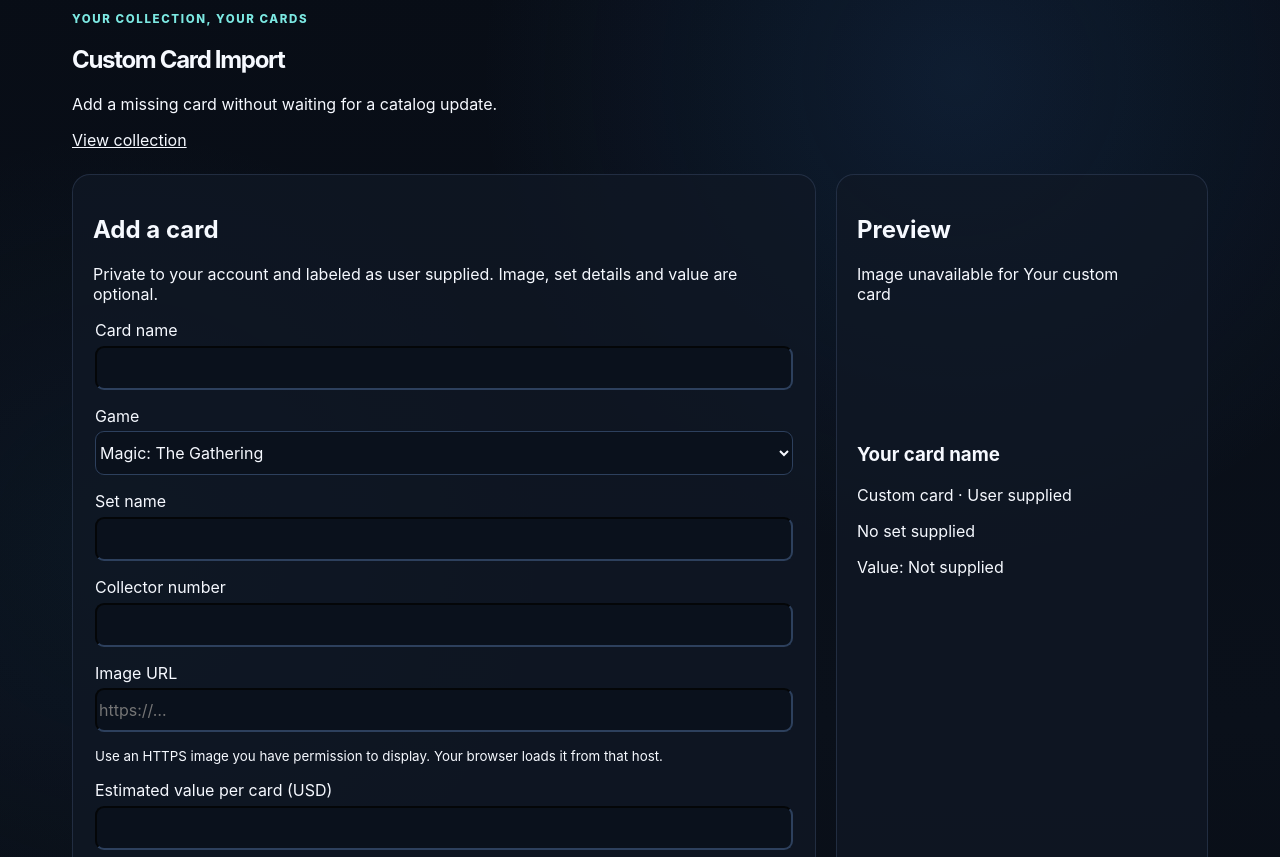
Test: keeps entered fields when saving fails
This screenshot has width=1280, height=857.
Type "Keep me" into the field labelled "Card name". click: [444, 368]
box: [95, 346, 793, 390]
(page scrolled)
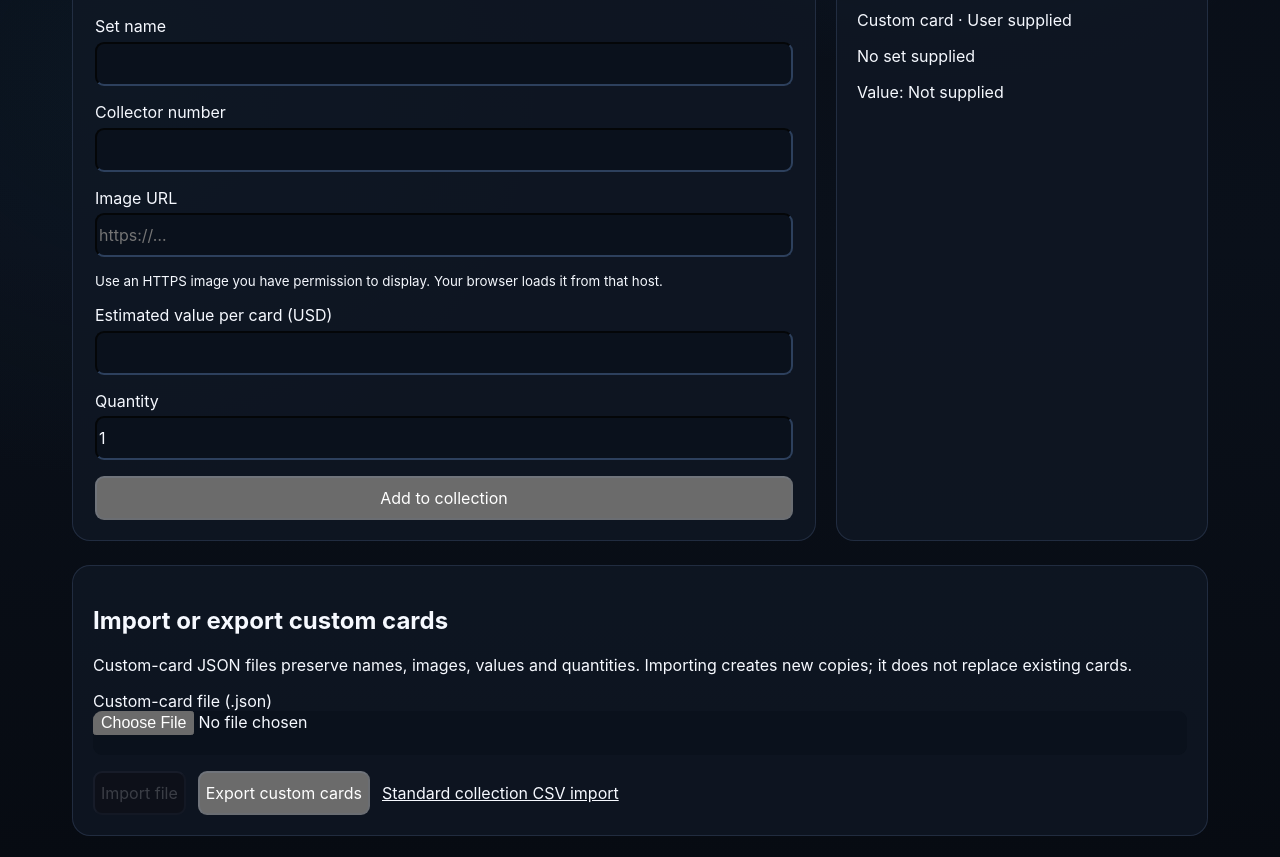
Click the button "Add to collection". click: [444, 498]
box: [95, 476, 793, 520]
(page scrolled)
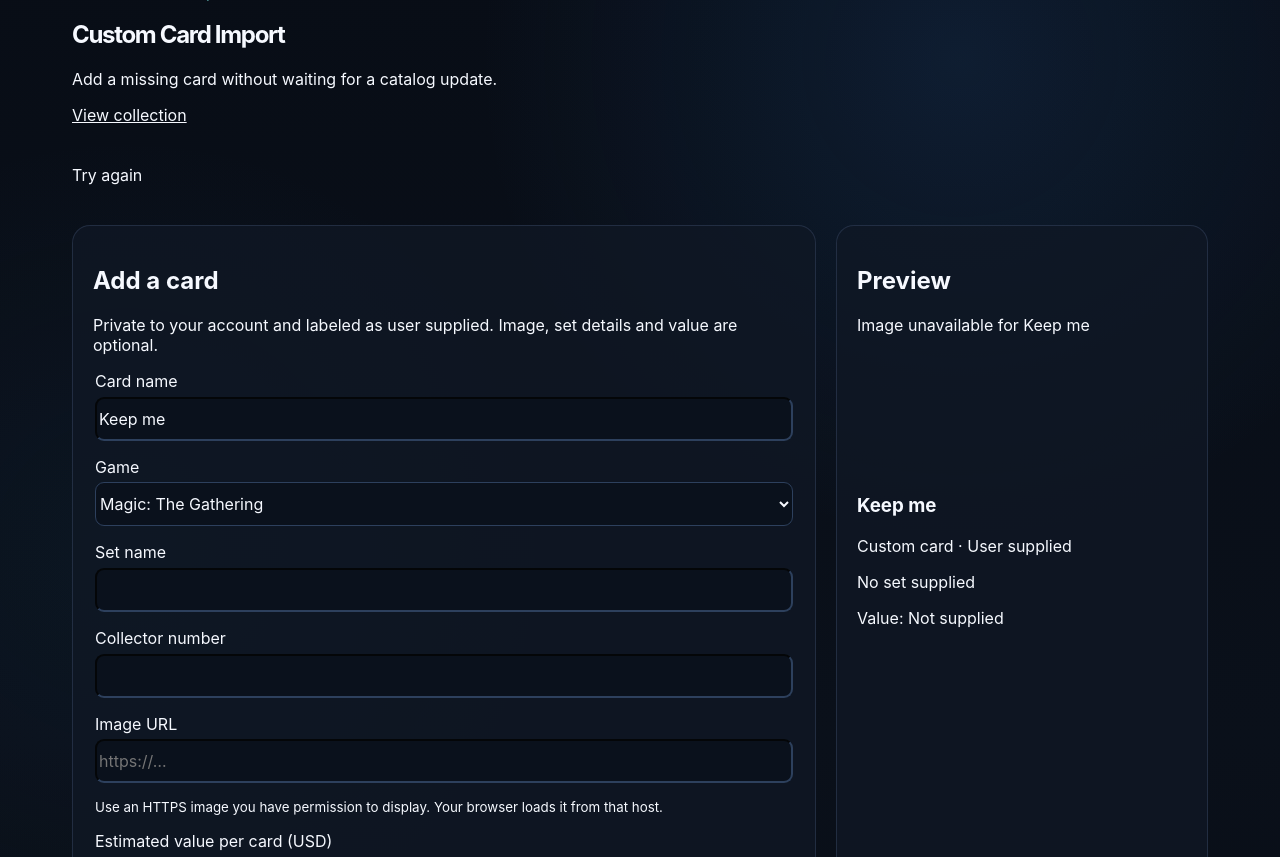
expect the message reads "Try again": met, box [72, 165, 142, 185]
